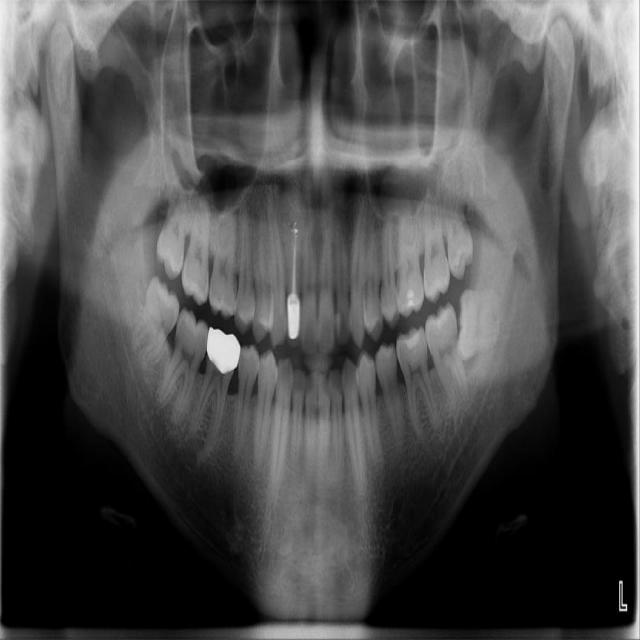Crown: (206, 327, 241, 375), (286, 296, 301, 346)
Filling: (401, 285, 423, 311), (404, 330, 420, 349)
Root Canal Treatment: (292, 228, 299, 295)
impacted tooth: (125, 276, 179, 365), (456, 287, 504, 359)
